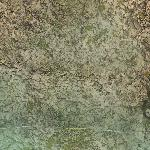dead: (1, 1, 144, 148)
